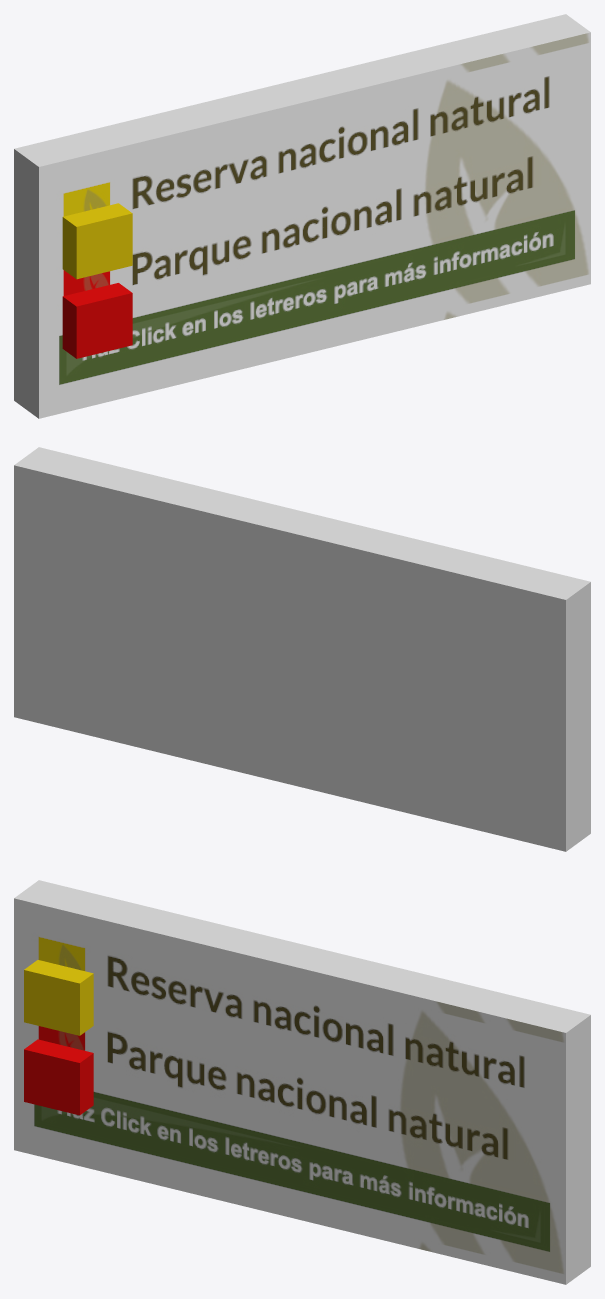
File: tabla.fbx
3 renders of one model, top to bottom at view 1: azimuth 30°, elevation 25°; view 2: azimuth 150°, elevation 25°; view 3: azimuth 330°, elevation 25°, orthographic.
Parts seen in each view (by area): view 1: polySurface45, polySurface46, pCube2, pCube3; view 2: polySurface46; view 3: polySurface45, polySurface46, pCube3, pCube2.
Boxes of the visible parts, x1=… form: polySurface45: x1=39, y1=32, x2=590, y2=418; polySurface46: x1=14, y1=14, x2=590, y2=418; pCube2: x1=62, y1=203, x2=132, y2=279; pCube3: x1=62, y1=283, x2=132, y2=358; polySurface46: x1=14, y1=447, x2=590, y2=851; polySurface45: x1=14, y1=898, x2=565, y2=1284; polySurface46: x1=14, y1=880, x2=590, y2=1284; pCube3: x1=24, y1=1039, x2=93, y2=1115; pCube2: x1=24, y1=960, x2=93, y2=1035.
Size of the model in its own units: 10.8 by 1.31 by 4.71.
